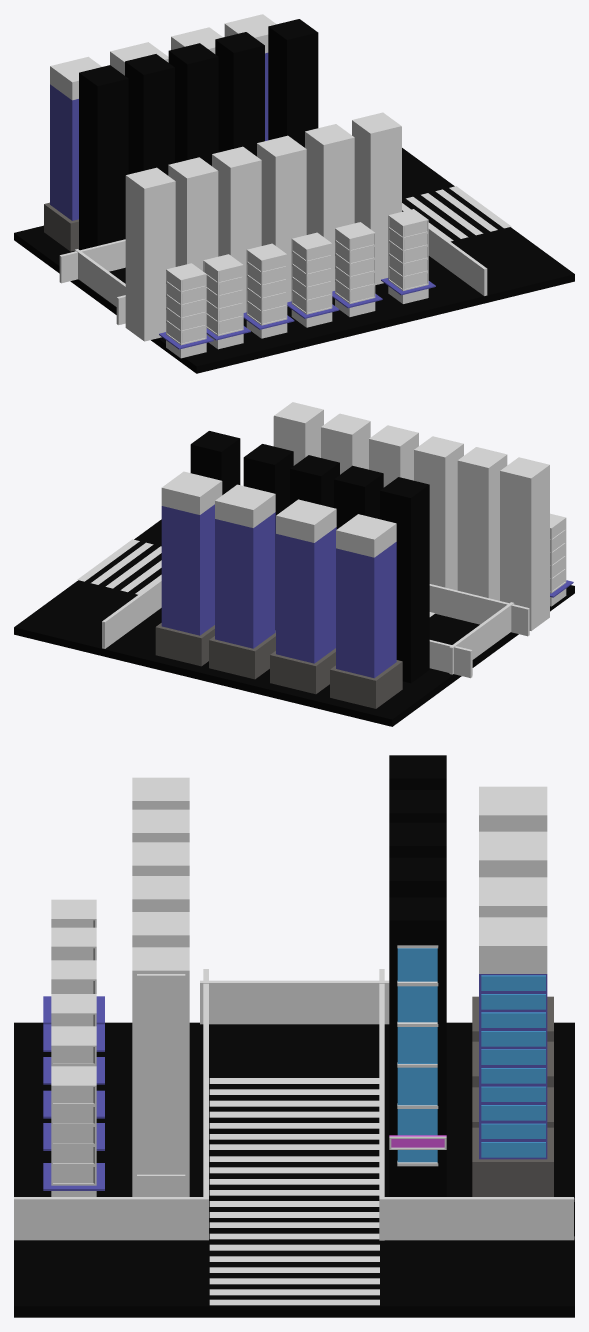
Rendered from CyberStreet2.fbx.
3 renders of one model, top to bottom at view 1: azimuth 30°, elevation 25°; view 2: azimuth 150°, elevation 25°; view 3: azimuth 270°, elevation 25°, orthographic. The views are drawn at different scales.
Visible parts, largest first — view 1: ground, b3.008, b2Base.013, b3, b2Base.001, b3.001, b3.006, b2Base.005, b3.004, b2Base.007, b2Base.009, b2Base.011 (+18 smaller); view 2: ground, Cube.086, Cube.112, Cube.099, b2Base.013, Cube.023, b3.008, b2Base.011, b2Base.009, b3.001, b3, b2Base.001 (+22 smaller); view 3: ground, Cube.002, fence2.002, fence2.005, fence2.001, b3, b1Body, Cube.024, b2Base.001, Cube.025, Cube.100, Cube.023 (+58 smaller).
Boxes of the visible parts, x1,y1,x2,y2 form: ground: (14, 148, 574, 373); b3.008: (79, 65, 128, 245); b2Base.013: (125, 167, 175, 320); b3: (268, 19, 318, 147); b2Base.001: (352, 112, 401, 263); b3.001: (215, 32, 264, 156); b3.006: (125, 54, 174, 175); b2Base.005: (305, 124, 354, 274); b3.004: (168, 43, 218, 165); b2Base.007: (257, 135, 306, 285); b2Base.009: (212, 146, 261, 295); b2Base.011: (168, 157, 218, 271); ground: (14, 519, 574, 726); Cube.086: (215, 512, 275, 648); Cube.112: (336, 542, 396, 678); Cube.099: (276, 527, 336, 663); b2Base.013: (500, 457, 549, 609); Cube.023: (161, 504, 214, 635); b3.008: (380, 477, 429, 657); b2Base.011: (457, 447, 507, 598); b2Base.009: (414, 436, 463, 587); b3.001: (243, 444, 293, 623); b3: (190, 431, 240, 494); b2Base.001: (274, 402, 323, 465); ground: (14, 1022, 574, 1317); Cube.002: (137, 974, 185, 1171); fence2.002: (384, 1197, 573, 1238); fence2.005: (200, 980, 389, 1022); fence2.001: (14, 1197, 203, 1238); b3: (389, 897, 446, 1166); b1Body: (51, 1066, 96, 1185); Cube.024: (479, 917, 547, 973); b2Base.001: (132, 947, 189, 1172); Cube.025: (472, 1127, 553, 1196); Cube.100: (479, 831, 547, 877); Cube.023: (479, 974, 547, 1159).
Bounding box in the file's own units: 10296 × 4790 × 8233.
